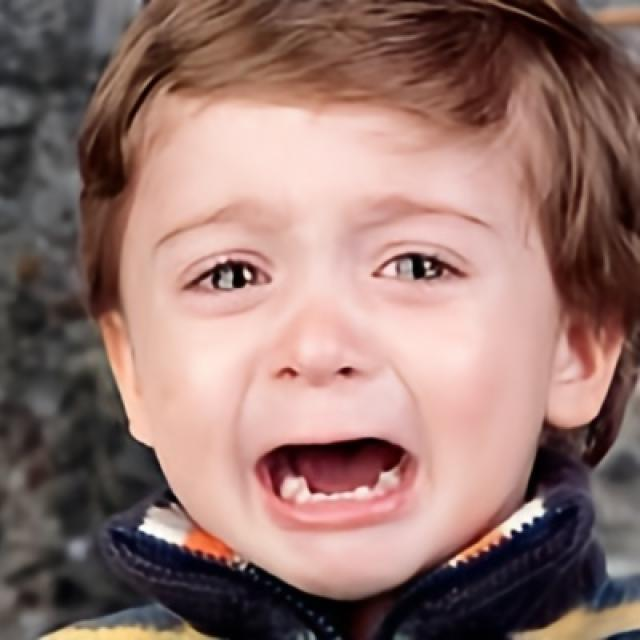fear: (133, 46, 557, 602)
